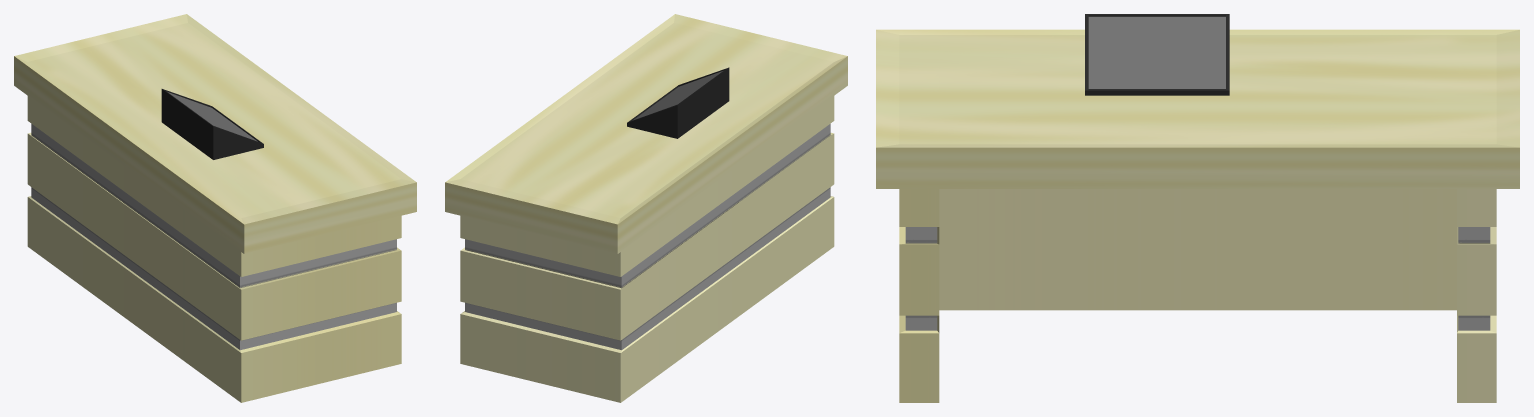
File: aud_biurko.fbx
The picture shows the model from 3 angles, left to right: view 1: azimuth 30°, elevation 25°; view 2: azimuth 150°, elevation 25°; view 3: azimuth 270°, elevation 25°; orthographic projection. The views are drawn at different scales.
Visible parts, largest first — view 1: aud_biurko; view 2: aud_biurko; view 3: aud_biurko.
Boxes of the visible parts, <box> form: aud_biurko: <box>14,14,416,402</box>; aud_biurko: <box>445,14,847,402</box>; aud_biurko: <box>876,14,1519,402</box>.
Size of the model in its own units: 280 by 339 by 647.
Materials: 1 (1 with a texture image).
